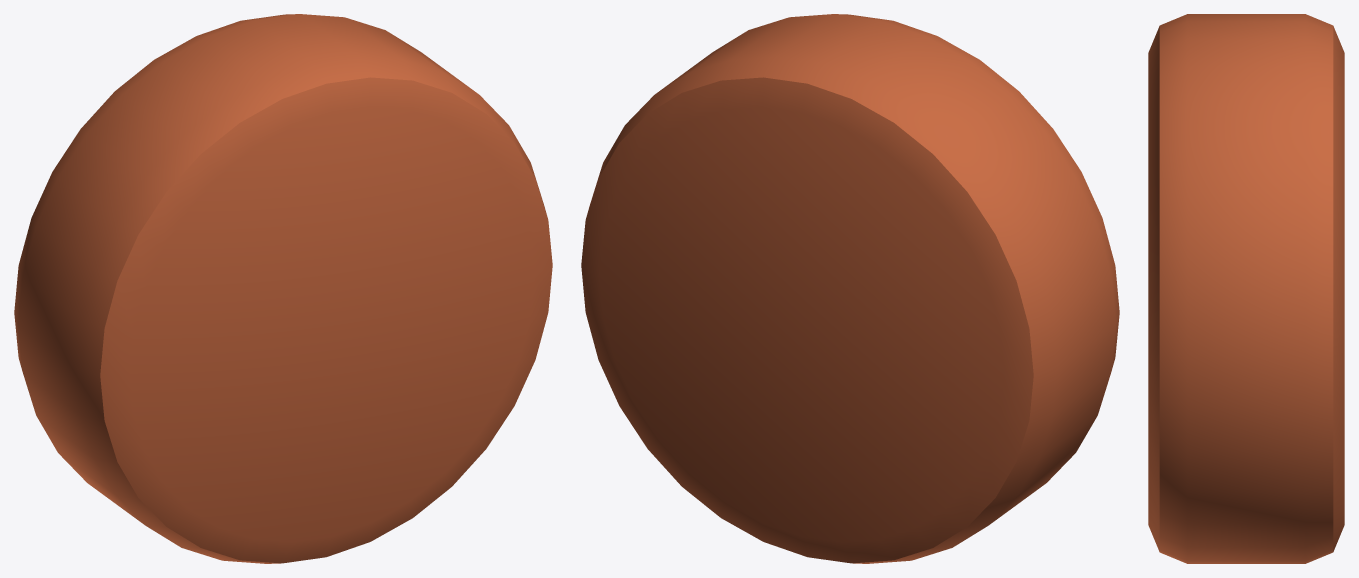
The model's file is crimping_press_start_button.glb.
3 renders of one model, left to right at view 1: azimuth 30°, elevation 25°; view 2: azimuth 150°, elevation 25°; view 3: azimuth 270°, elevation 25°, orthographic.
Visible parts, largest first — view 1: crimping_press_start_button; view 2: crimping_press_start_button; view 3: crimping_press_start_button.
Part boxes in pixels (x1,y1,x2,y2): crimping_press_start_button: (14,14,552,563); crimping_press_start_button: (581,14,1119,563); crimping_press_start_button: (1148,14,1344,563).
Bounding box in the file's own units: 0.028 × 0.028 × 0.01.
